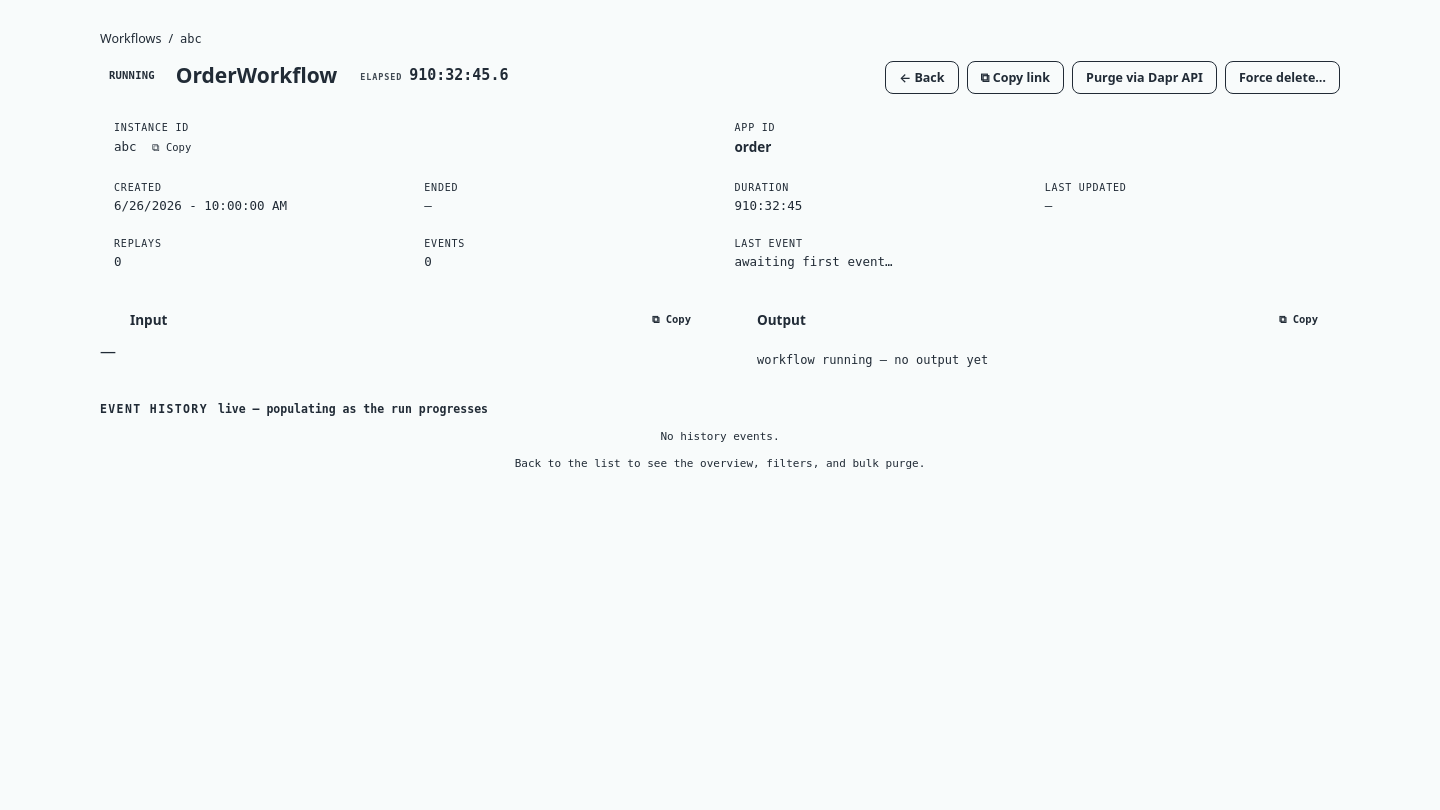
Test: WorkflowDetail › clicking wf-remove opens confirm-remove dialog
The image size is (1440, 810).
Check: the heading "OrderWorkflow" is shown, box left=176, top=61, right=337, bottom=89
Click the button with test id "wf-remove" at [1282, 78], box left=1225, top=61, right=1340, bottom=94
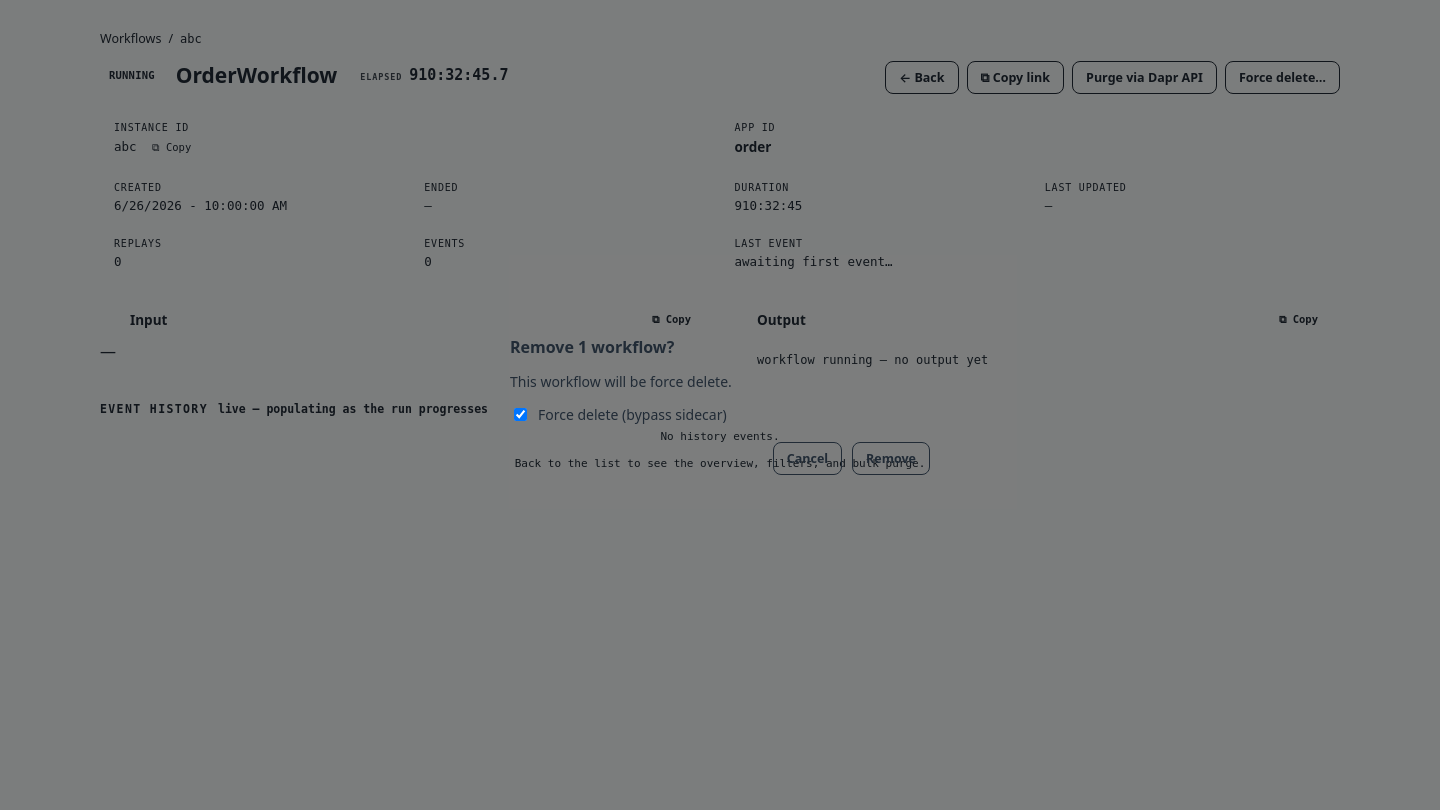
Check: the button with test id "confirm-remove" is shown, box left=852, top=442, right=930, bottom=474
